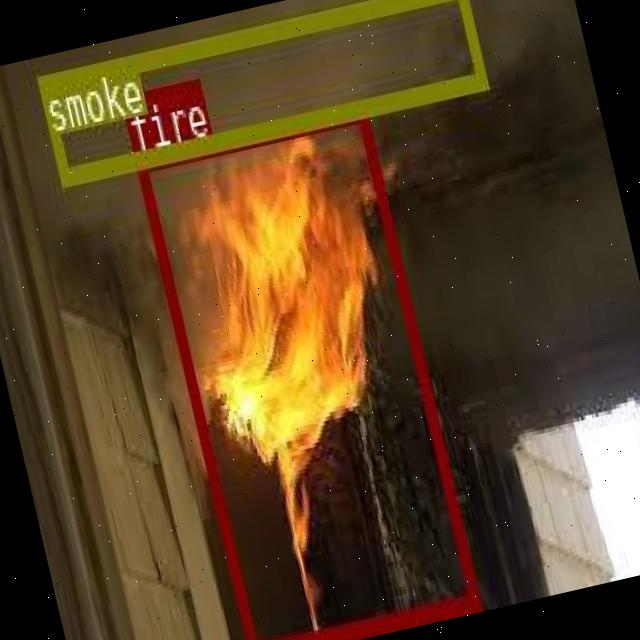fire: (132, 103, 477, 640)
smoke: (34, 0, 486, 183)
